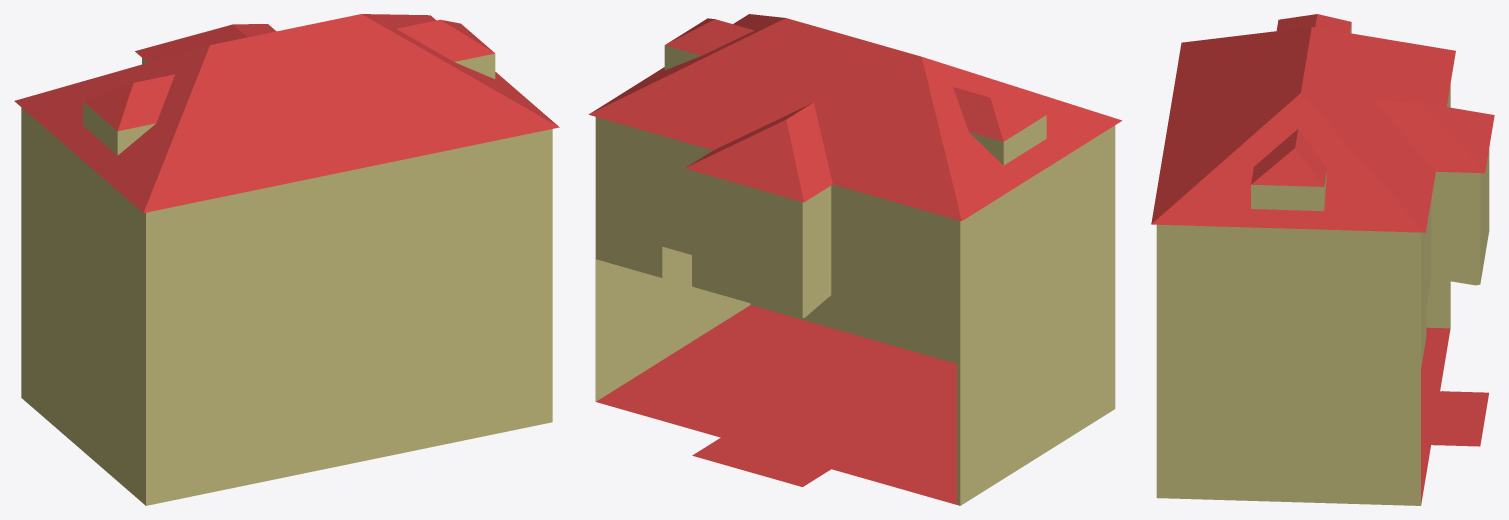
3 views of the same model, side by side, from view 1: azimuth 30°, elevation 25°; view 2: azimuth 150°, elevation 25°; view 3: azimuth 270°, elevation 25° (orthographic). The views are drawn at different scales.
Bounding box in the file's own units: 22.02 × 16.82 × 19.09.
